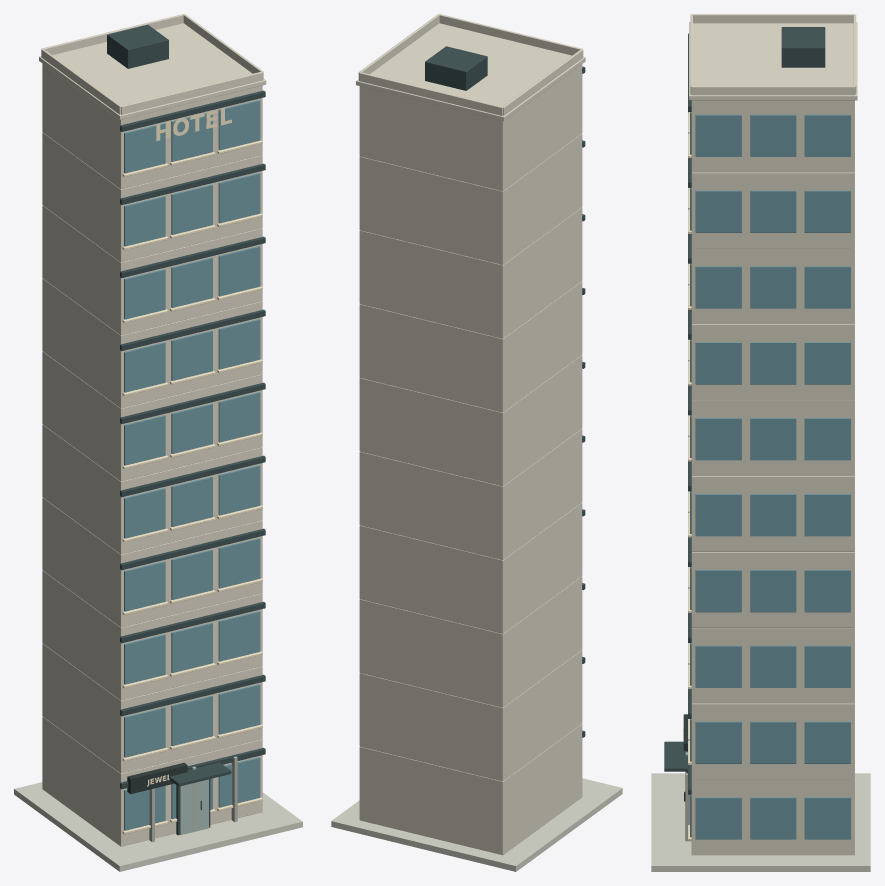
File: large-2x2-boutique-hotel-02.glb
The picture shows the model from 3 angles, left to right: view 1: azimuth 30°, elevation 25°; view 2: azimuth 150°, elevation 25°; view 3: azimuth 270°, elevation 25°; orthographic projection. The views are drawn at different scales.
Visible parts, largest first — view 1: Storey_02, Storey_09, Storey_03, Storey_08, Storey_04, Storey_07, Storey_05, Storey_06, Storey_10, Storey_01, RoofCap, LotPlinth (+47 smaller); view 2: Storey_03, Storey_04, Storey_09, Storey_01, Storey_02, Storey_07, Storey_08, Storey_05, Storey_06, Storey_10, RoofCap, LotPlinth (+5 smaller); view 3: RoofCap, LotPlinth, Storey_01, Storey_07, Storey_08, Storey_02, Storey_09, Storey_03, Storey_04, Storey_05, Storey_06, Storey_10 (+34 smaller).
Boxes of the visible parts, x1,y1,x2,y2 form: Storey_02: (42,643,262,773); Storey_09: (42,132,262,262); Storey_03: (42,570,262,700); Storey_08: (42,205,262,335); Storey_04: (42,497,262,627); Storey_07: (42,278,262,408); Storey_05: (42,424,262,554); Storey_06: (42,351,262,481); Storey_10: (42,63,262,189); Storey_01: (42,716,262,846); RoofCap: (39,23,266,119); LotPlinth: (14,782,302,871); Storey_03: (359,576,582,707); Storey_04: (359,502,582,633); Storey_09: (359,133,582,264); Storey_01: (359,724,582,855); Storey_02: (359,650,582,781); Storey_07: (359,281,582,412); Storey_08: (359,207,582,338); Storey_05: (359,429,582,559); Storey_06: (359,355,582,486); Storey_10: (359,64,582,191); RoofCap: (356,23,585,121); LotPlinth: (331,778,622,871); RoofCap: (689,22,857,100); LotPlinth: (651,773,870,871); Storey_01: (691,779,854,855); Storey_07: (691,324,854,400); Storey_08: (691,248,854,324); Storey_02: (691,703,854,779); Storey_09: (691,172,854,248); Storey_03: (691,628,854,703); Storey_04: (691,552,854,627); Storey_05: (691,476,854,551); Storey_06: (691,400,854,475); Storey_10: (691,100,854,172).
Size of the model in its own units: 8 by 31.69 by 8.
